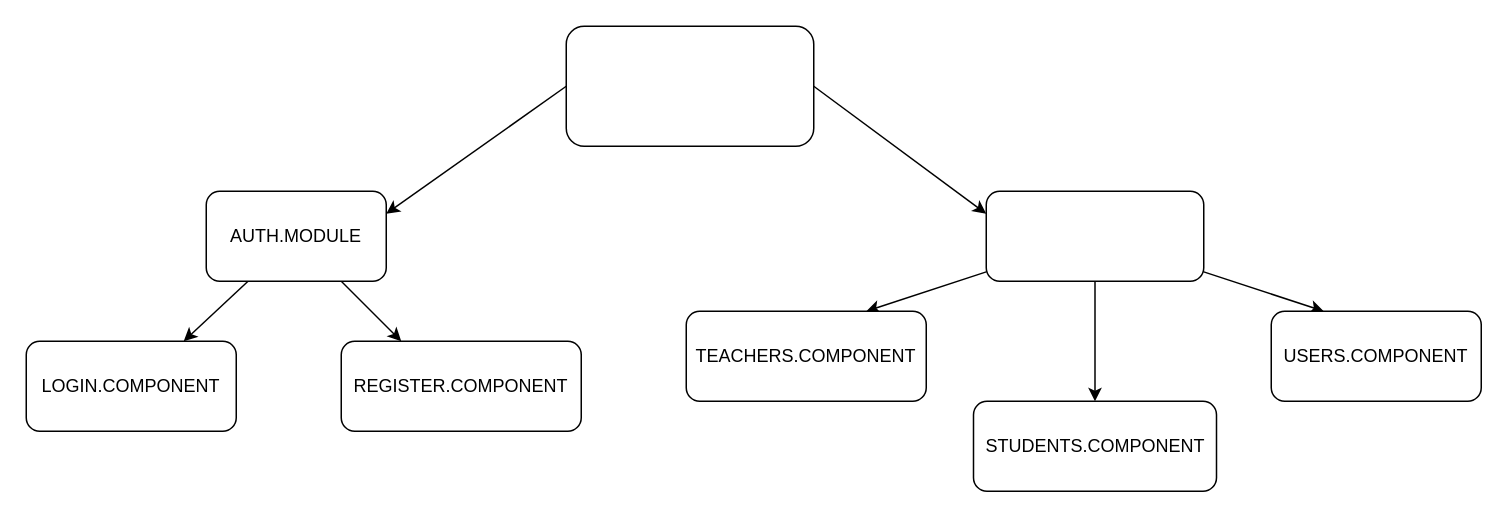
Some shapes in this 1508 by 518 pixel diagram are drawn without their labels. Here are the shapes that lost their labels. From the top down, the centre of each, then its label:
the point at 689,85: APP.MODULE
the point at 1094,235: DASHBOARD.MODULE
